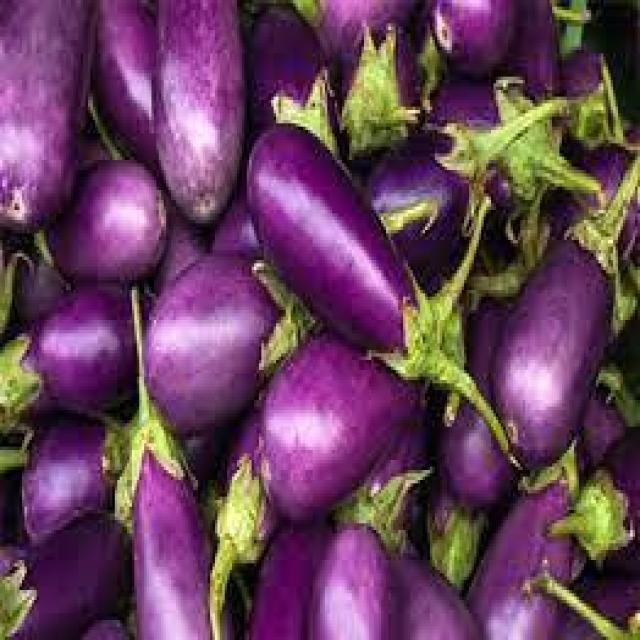eggplant: (245, 121, 508, 452), (492, 155, 637, 464)
